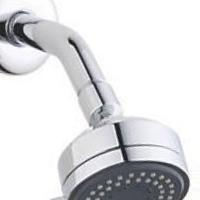Ducha: (0, 0, 191, 199)
